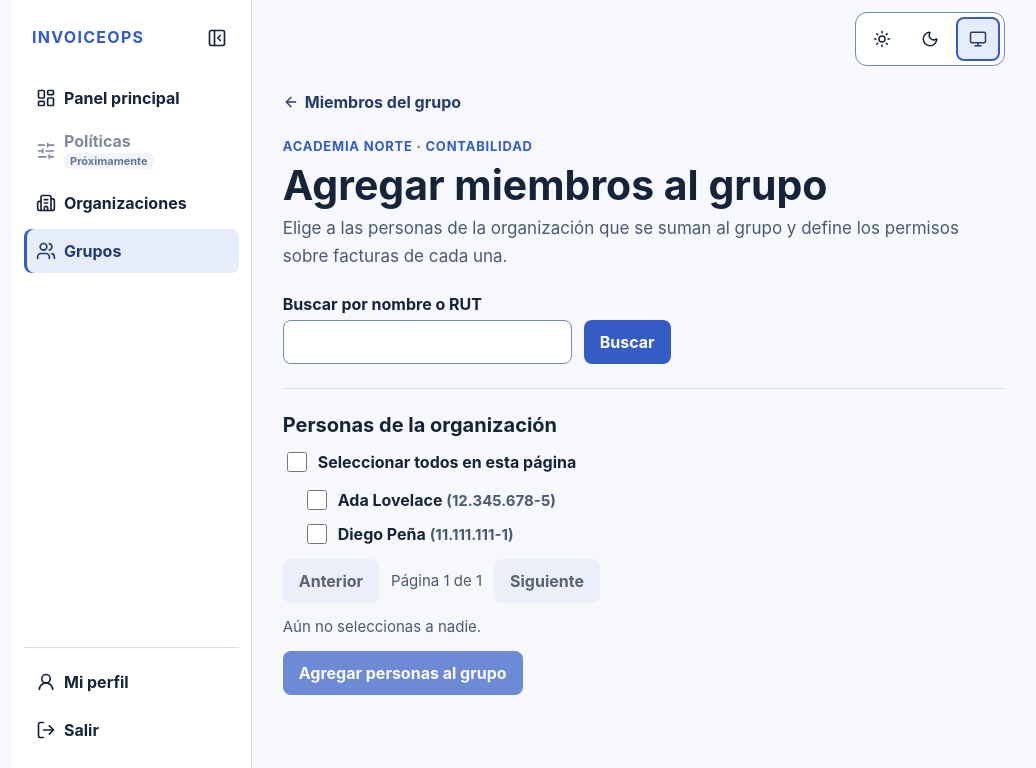
CR-216 flows navigate only after the lists are fresh › adding people to a group waits for the refetch of its members before going to the list
The width and height of the screenshot is (1036, 768).
Step 1. Click the checkbox labelled "Diego Peña (11.111.111-1)" → click(317, 534), box [307,524,327,544]
(page scrolled)
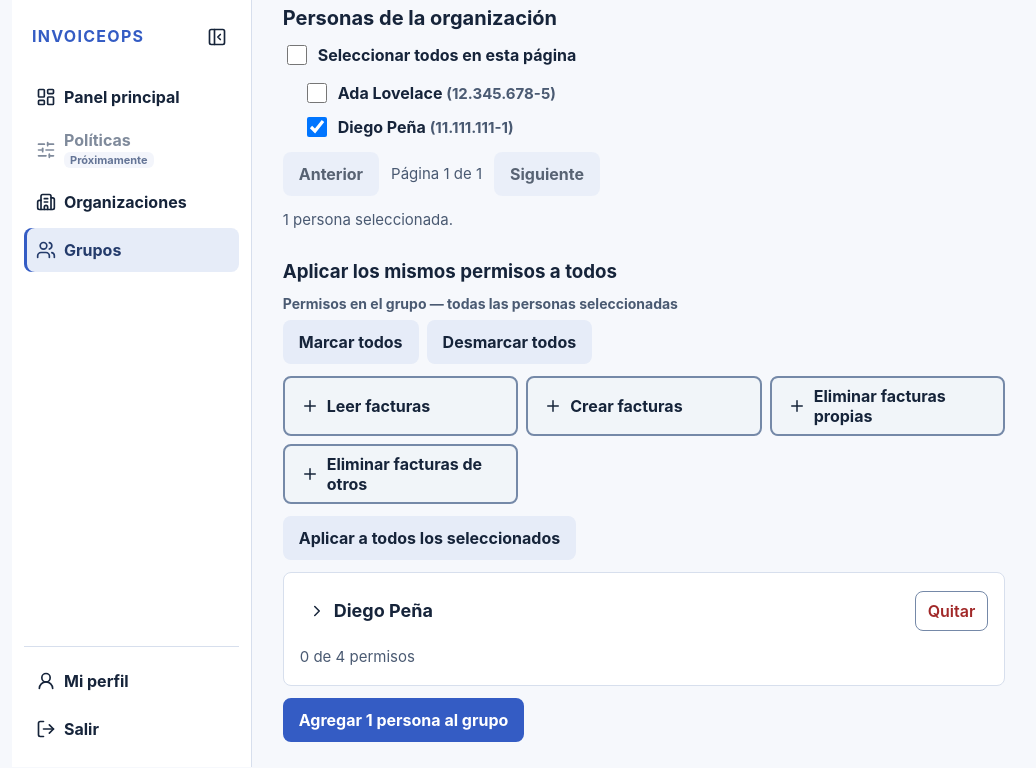
Step 2. Click the button "Agregar 1 persona al grupo" → click(404, 720), box [283,698,524,742]
(page scrolled)
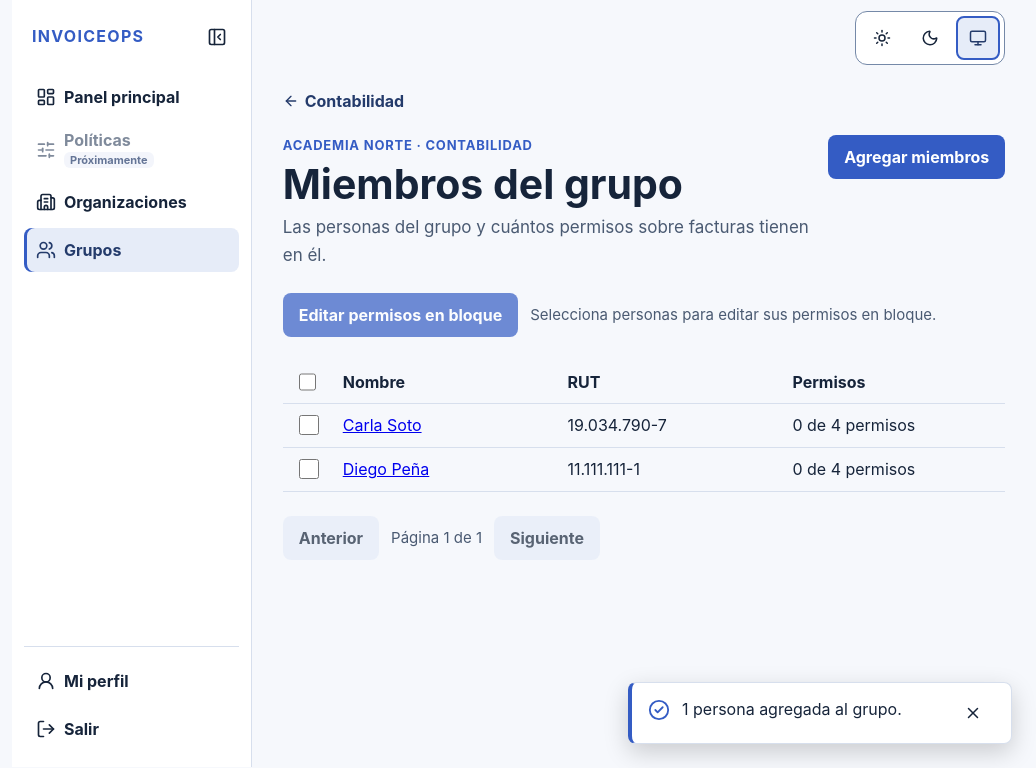
expect the link "Diego Peña" is shown: met, box [343,459,429,479]
expect the text "1 persona agregada al grupo." below "Página" is shown: met, box [682,699,902,719]
